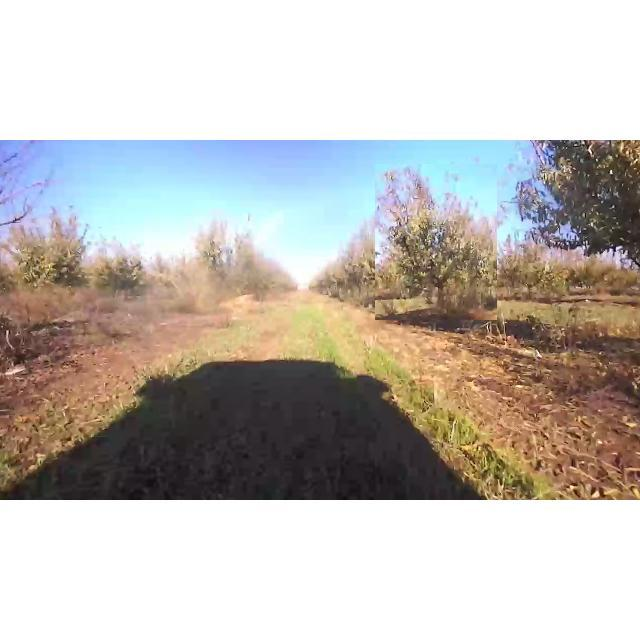direk: (375, 164, 497, 320)
